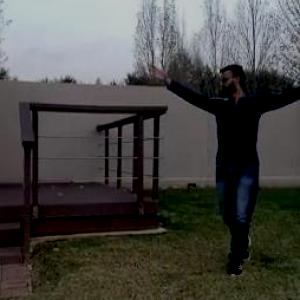takeoff: (147, 62, 299, 274)
